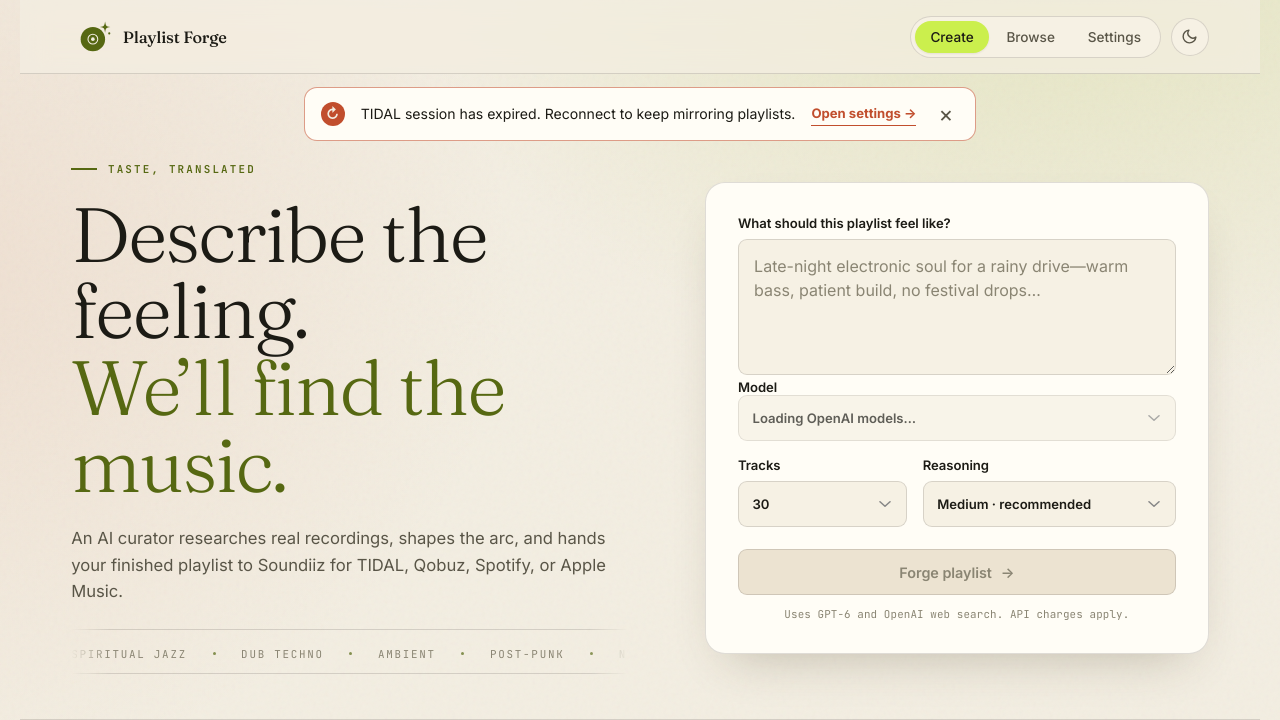
Test: App › dismisses the reconnect banner until another session expires
Click the button named "Dismiss" at (946, 114), box [932,102,959,126]
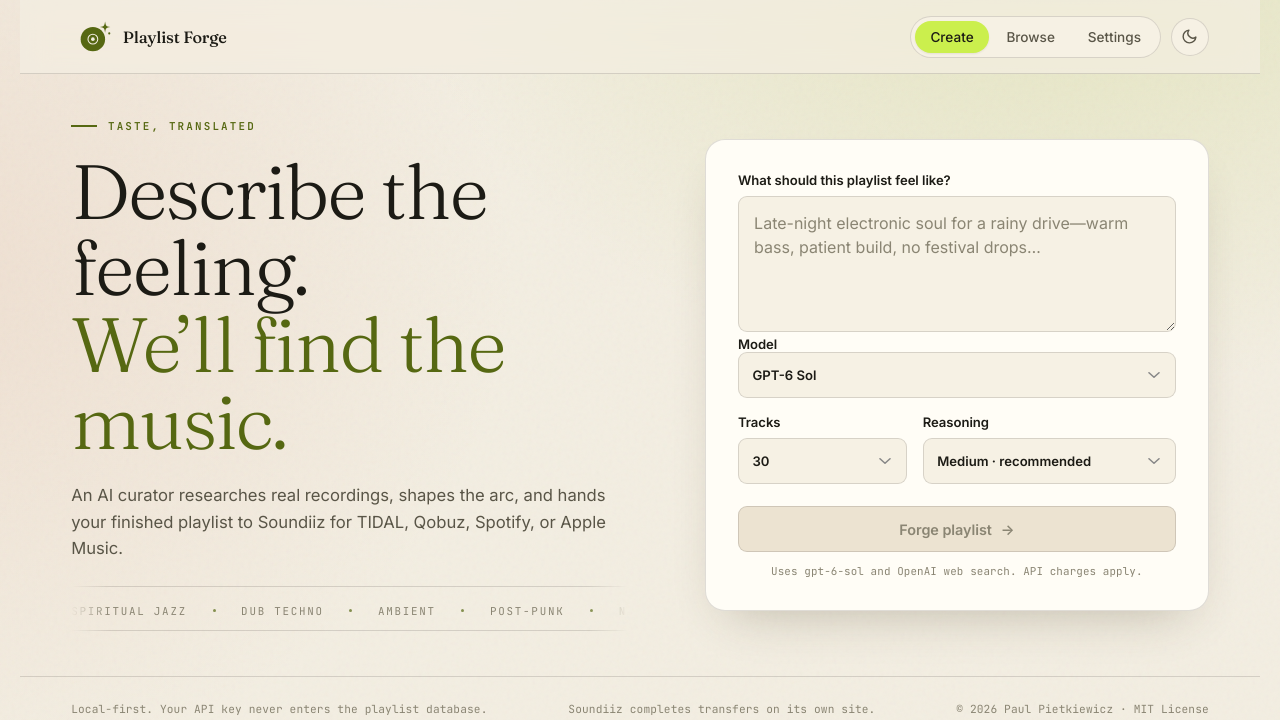
Now the text "TIDAL session has expired" is gone
